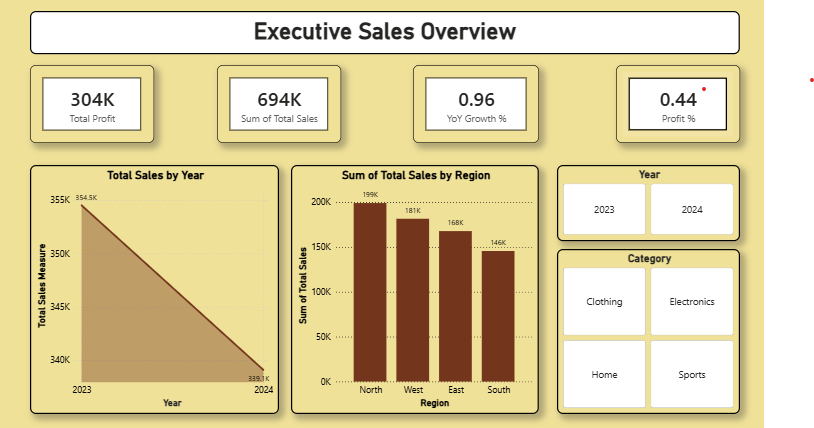

Layout of this report page (visuals, bound fields, positions):
{"tool":"powerbi","page":{"name":"Page 1","canvas":[1280,720],"ordinal":0},"visuals":[{"type":"cardVisual","fields":{"Data":["Sum(sales_table.Total Sales)"]},"box":[363.3,110,206.7,130],"z":0},{"type":"cardVisual","fields":{"Data":["sales_table.YoY Growth %"]},"box":[690,110,210,130],"z":1},{"type":"cardVisual","fields":{"Data":["sales_table.Total Profit"]},"box":[51.7,110,206.7,130],"z":2},{"type":"cardVisual","fields":{"Data":["sales_table.Profit %"]},"box":[1028.3,110,206.7,130],"z":3},{"type":"lineChart","title":"Total Sales by Year","fields":{"Category":["date_table.Date.Variation.Date Hierarchy.Year","date_table.Date.Variation.Date Hierarchy.Quarter","date_table.Date.Variation.Date Hierarchy.Month","date_table.Date.Variation.Date Hierarchy.Day"],"Y":["sales_table.Total Sales Measure"]},"box":[51.7,276.7,415,415],"z":4},{"type":"clusteredColumnChart","fields":{"Category":["sales_table.Region"],"Y":["Sum(sales_table.Total Sales)"]},"box":[486.7,276.7,413.3,415],"z":5},{"type":"advancedSlicerVisual","fields":{"Values":["date_table.Year"]},"box":[930,276.7,305,126.7],"z":6},{"type":"advancedSlicerVisual","fields":{"Values":["products_table.Category"]},"box":[930,416.7,305,275],"z":7},{"type":"textbox","box":[51.7,20,1183.3,71.7],"z":8}]}

Visuals, with their boxes in screenshot pixels (x1, y1, x2, y2):
cardVisual - Sum(sales_table.Total Sales): region(215, 63, 340, 142)
cardVisual - sales_table.YoY Growth %: region(413, 63, 541, 142)
cardVisual - sales_table.Total Profit: region(25, 63, 151, 142)
cardVisual - sales_table.Profit %: region(619, 63, 745, 142)
"Total Sales by Year" lineChart: region(25, 164, 277, 416)
clusteredColumnChart - sales_table.Region x Sum(sales_table.Total Sales): region(290, 164, 541, 416)
advancedSlicerVisual - date_table.Year: region(559, 164, 745, 241)
advancedSlicerVisual - products_table.Category: region(559, 249, 745, 416)
textbox: region(25, 8, 745, 52)
